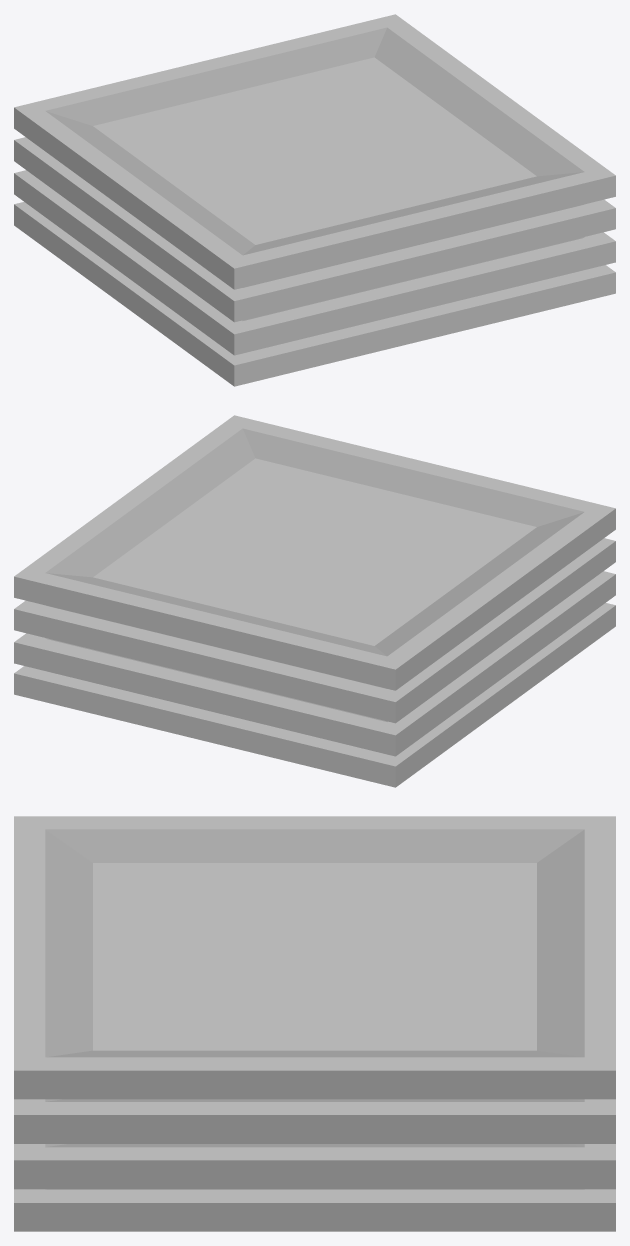
The model's file is PlateStack.glb.
3 renders of one model, top to bottom at view 1: azimuth 30°, elevation 25°; view 2: azimuth 150°, elevation 25°; view 3: azimuth 270°, elevation 25°, orthographic. The views are drawn at different scales.
Visible parts, largest first — view 1: SI_Prop_Plate_Stack_01; view 2: SI_Prop_Plate_Stack_01; view 3: SI_Prop_Plate_Stack_01.
Part boxes in pixels (x1,y1,x2,y2): SI_Prop_Plate_Stack_01: (14,14,615,386); SI_Prop_Plate_Stack_01: (14,415,615,787); SI_Prop_Plate_Stack_01: (14,816,615,1231).
Size of the model in its own units: 0.00813 by 0.0024 by 0.00813.
1 material, 1 textured.
